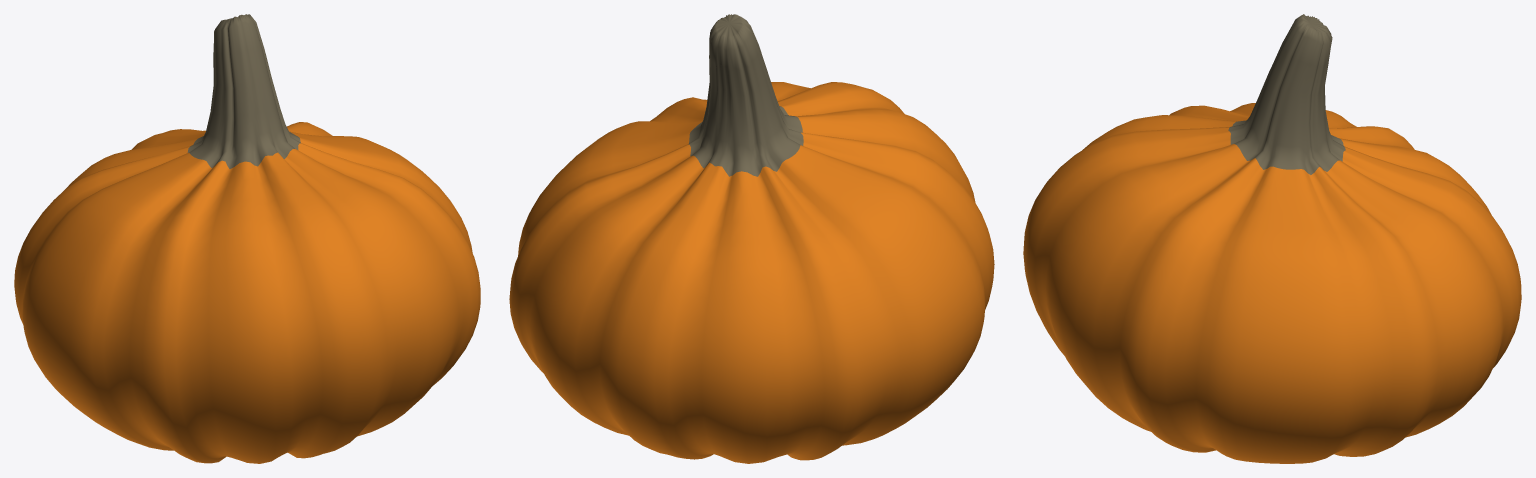
File: pumpkin.dae
The picture shows the model from 3 angles, left to right: view 1: azimuth 30°, elevation 25°; view 2: azimuth 150°, elevation 25°; view 3: azimuth 270°, elevation 25°; orthographic projection. The views are drawn at different scales.
Visible parts, largest first — view 1: pumpkin; view 2: pumpkin; view 3: pumpkin.
Boxes of the visible parts, x1=… form: pumpkin: x1=14, y1=14, x2=480, y2=463; pumpkin: x1=509, y1=14, x2=994, y2=463; pumpkin: x1=1023, y1=14, x2=1521, y2=463.
Size of what is drawn, in the model's own units: 1.98 by 2.04 by 1.85.
